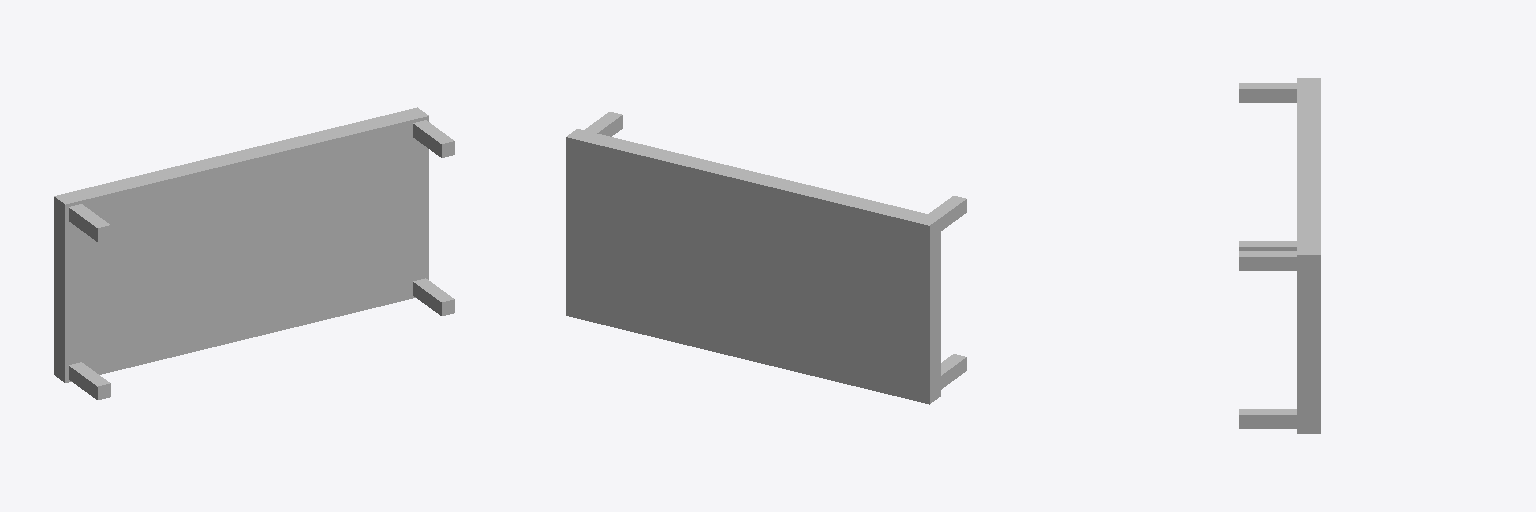
Rendered from random_table76.obj.
3 views of the same model, side by side, from view 1: azimuth 30°, elevation 25°; view 2: azimuth 150°, elevation 25°; view 3: azimuth 270°, elevation 25° (orthographic).
Parts seen in each view (by area): view 1: Table_Cube.1445, TableLeg1_Cube.1447, TableLeg3_Cube.1449, TableLeg0_Cube.1446, TableLeg2_Cube.1448; view 2: Table_Cube.1445, TableLeg1_Cube.1447, TableLeg3_Cube.1449, TableLeg0_Cube.1446; view 3: Table_Cube.1445, TableLeg0_Cube.1446, TableLeg1_Cube.1447, TableLeg2_Cube.1448, TableLeg3_Cube.1449.
Boxes of the visible parts, x1,y1,x2,y2 form: Table_Cube.1445: [54, 107, 428, 382]; TableLeg1_Cube.1447: [69, 204, 110, 241]; TableLeg3_Cube.1449: [69, 362, 110, 399]; TableLeg0_Cube.1446: [413, 120, 454, 157]; TableLeg2_Cube.1448: [413, 278, 454, 315]; Table_Cube.1445: [566, 129, 940, 404]; TableLeg1_Cube.1447: [929, 196, 966, 230]; TableLeg3_Cube.1449: [941, 354, 966, 389]; TableLeg0_Cube.1446: [585, 112, 622, 136]; Table_Cube.1445: [1297, 78, 1320, 433]; TableLeg0_Cube.1446: [1239, 251, 1296, 270]; TableLeg1_Cube.1447: [1239, 83, 1296, 102]; TableLeg2_Cube.1448: [1239, 409, 1296, 428]; TableLeg3_Cube.1449: [1239, 241, 1296, 250].
Bounding box in the file's own units: 8.69 × 4.08 × 1.68.